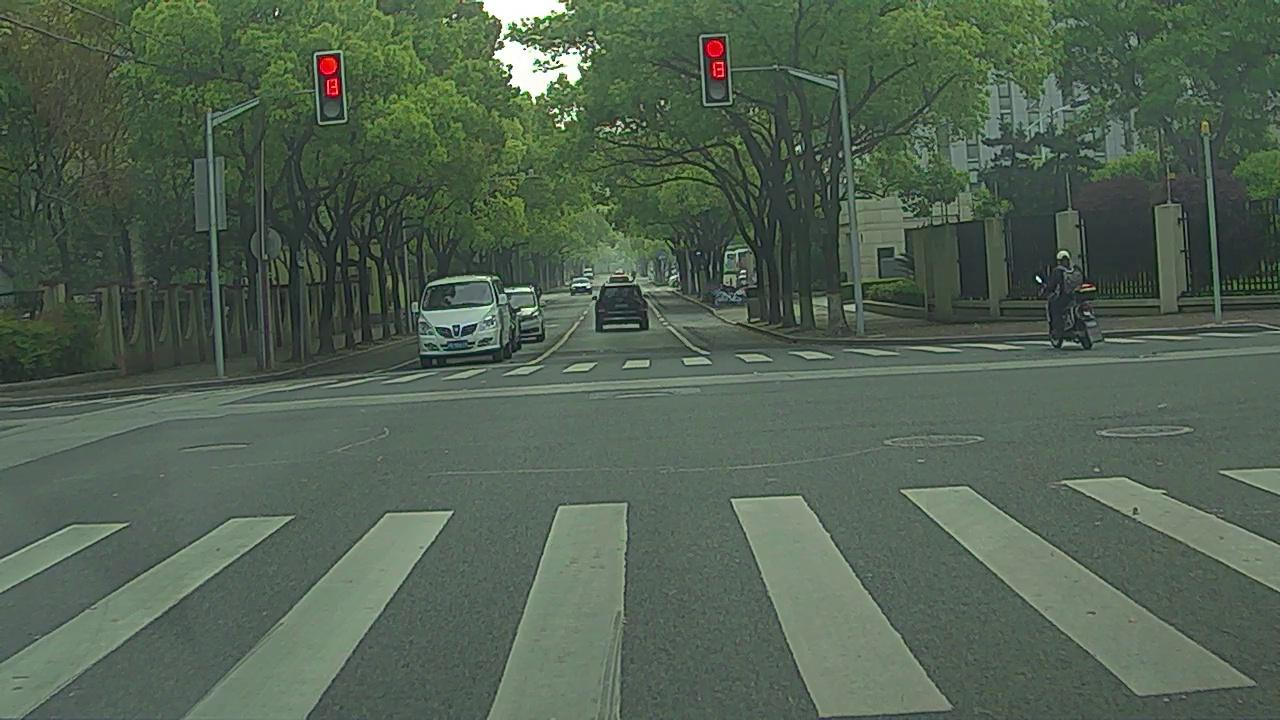traffic_light: (700, 37, 733, 103), (317, 54, 348, 122)
